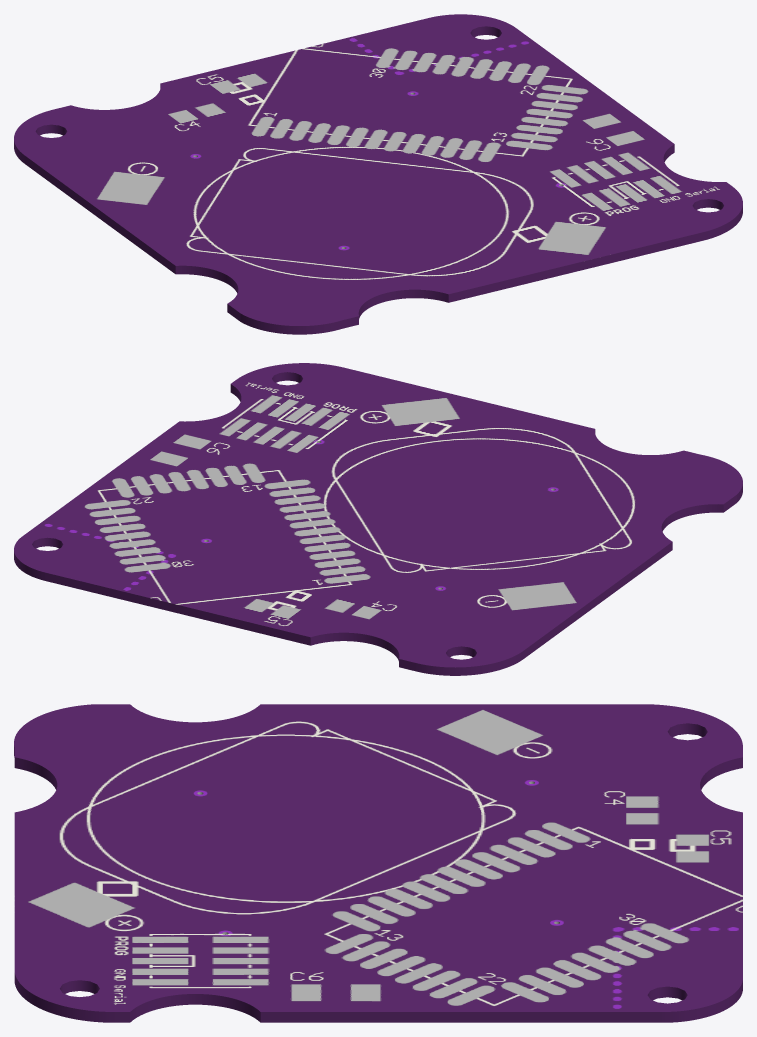
File: remote.dae
The picture shows the model from 3 angles, top to bottom: view 1: azimuth 30°, elevation 25°; view 2: azimuth 150°, elevation 25°; view 3: azimuth 270°, elevation 25°; orthographic projection. The views are drawn at different scales.
Parts seen in each view (by area): view 1: pcbgroup (×2); view 2: pcbgroup (×2); view 3: pcbgroup (×2).
Boxes of the visible parts, x1,y1,x2,y2 form: pcbgroup (×2): [14, 14, 742, 334]; pcbgroup (×2): [14, 363, 742, 675]; pcbgroup (×2): [14, 704, 742, 1022].
Bounding box in the file's own units: 1.45 × 1.45 × 0.0236.
5 materials, 2 textured.
